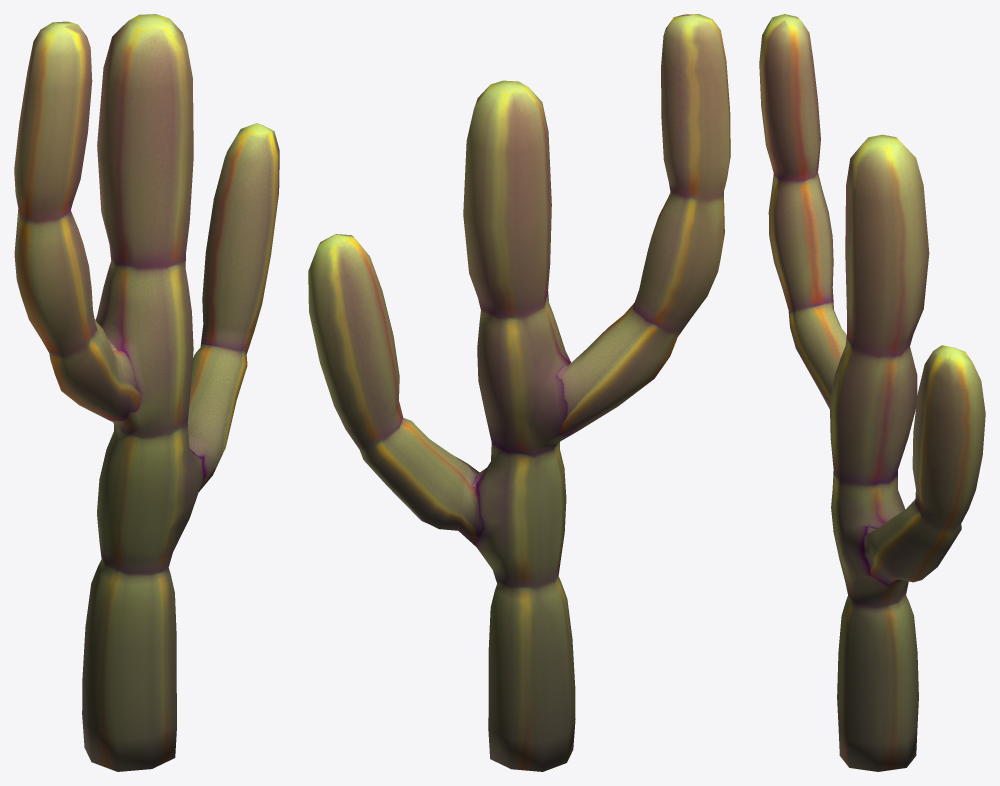
File: mandacaru_1.fbx
3 views of the same model, side by side, from view 1: azimuth 30°, elevation 25°; view 2: azimuth 150°, elevation 25°; view 3: azimuth 270°, elevation 25° (orthographic). The views are drawn at different scales.
Parts seen in each view (by area): view 1: Cube; view 2: Cube; view 3: Cube.
Boxes of the visible parts, <box> form: Cube: <box>14,14,279,771</box>; Cube: <box>308,14,730,771</box>; Cube: <box>759,14,985,771</box>.
Bounding box in the file's own units: 734 × 1565 × 468.
